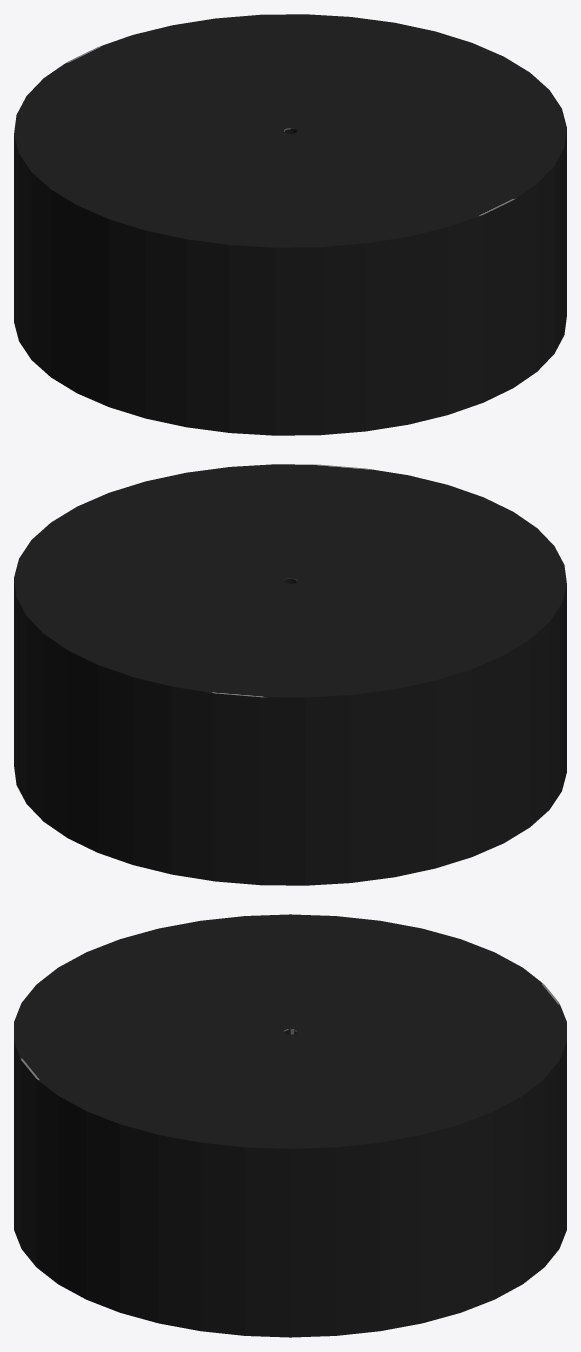
The model's file is right_rear_wheel.dae.
The picture shows the model from 3 angles, top to bottom: view 1: azimuth 30°, elevation 25°; view 2: azimuth 150°, elevation 25°; view 3: azimuth 270°, elevation 25°; orthographic projection.
Parts seen in each view (by area): view 1: right_rear_wheel; view 2: right_rear_wheel; view 3: right_rear_wheel.
Part boxes in pixels (<box>): right_rear_wheel: <box>14,14,566,435</box>; right_rear_wheel: <box>14,464,566,885</box>; right_rear_wheel: <box>14,914,566,1337</box>.
Bounding box in the file's own units: 0.2032 × 0.2025 × 0.0762.
Materials: 1 (1 with a texture image).
